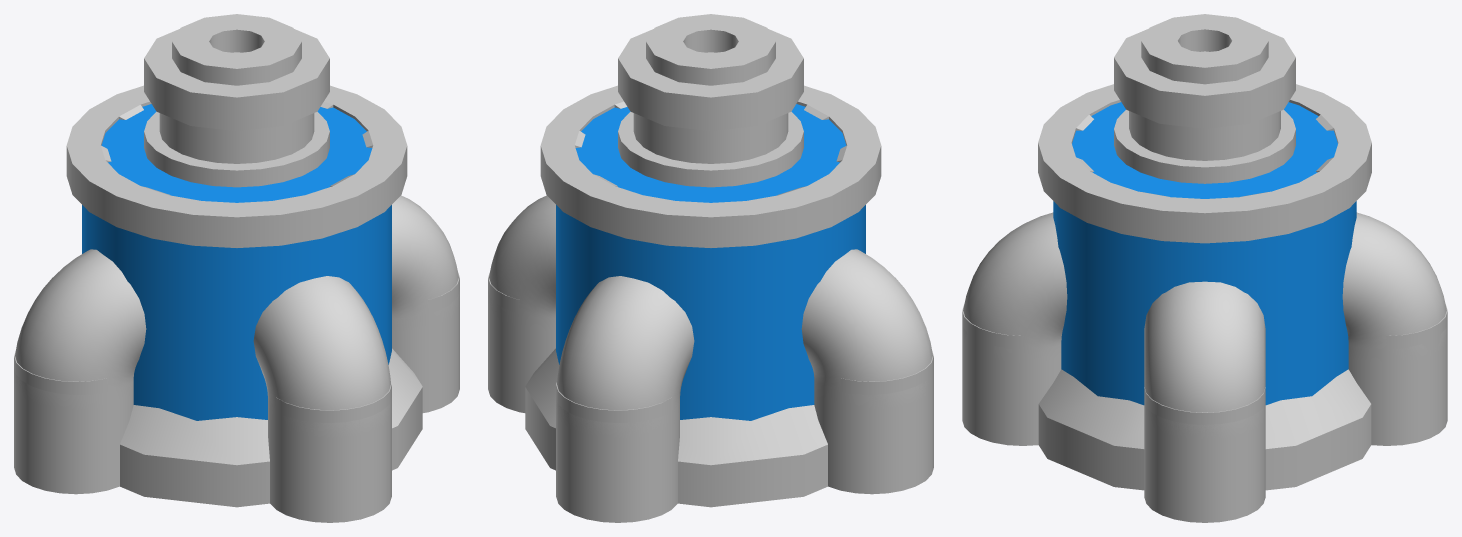
File: CurrencySupportBuilding.fbx
3 views of the same model, side by side, from view 1: azimuth 30°, elevation 25°; view 2: azimuth 150°, elevation 25°; view 3: azimuth 270°, elevation 25° (orthographic). The views are drawn at different scales.
Parts seen in each view (by area): view 1: mergedBlocks; view 2: mergedBlocks; view 3: mergedBlocks.
Part boxes in pixels (bbox=[...]): mergedBlocks: bbox=[14, 14, 459, 522]; mergedBlocks: bbox=[488, 14, 933, 522]; mergedBlocks: bbox=[962, 14, 1447, 522].
Size of the model in its own units: 8 by 6.9 by 8.
